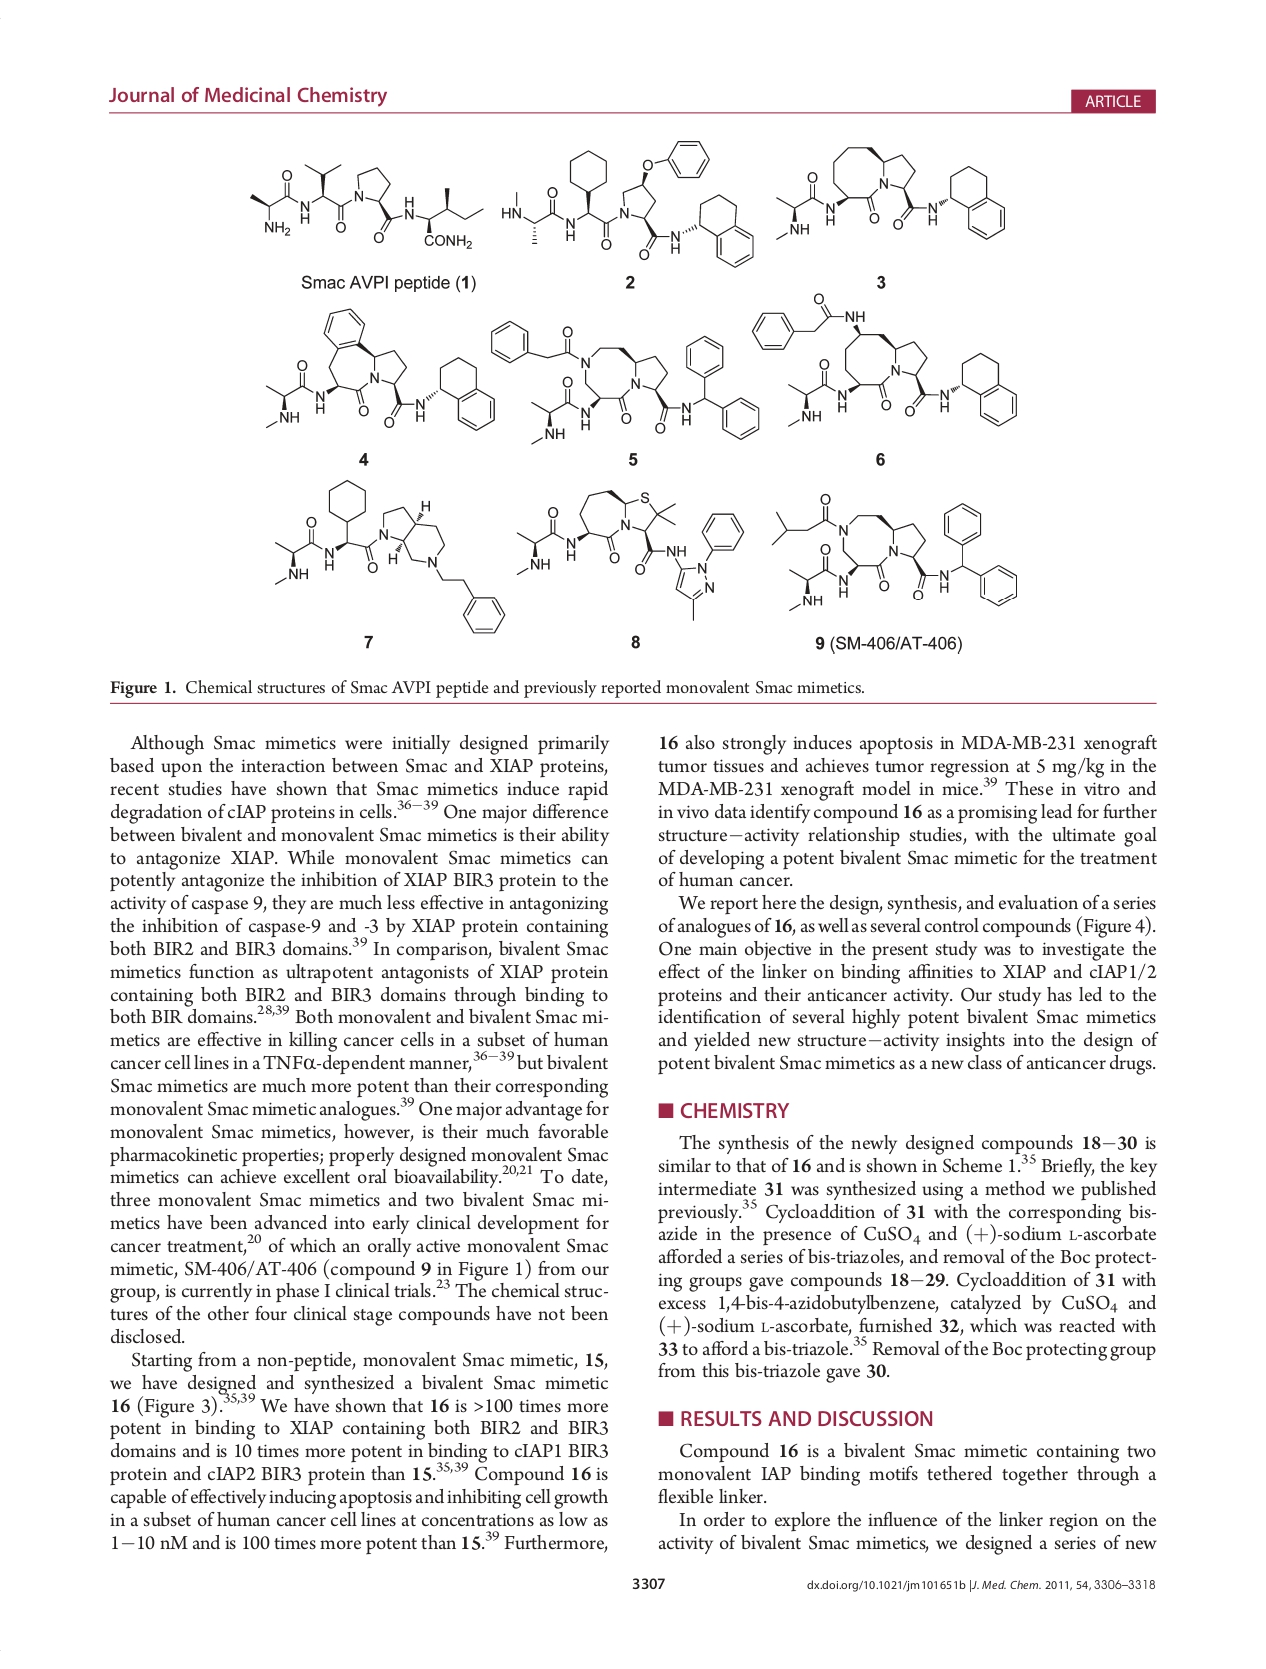exist_molecular: (267, 475, 507, 637), (749, 290, 1023, 430), (489, 317, 765, 446), (495, 137, 755, 270), (765, 488, 1024, 616), (512, 488, 745, 621), (261, 303, 497, 434), (769, 142, 1012, 246), (242, 156, 484, 257)
